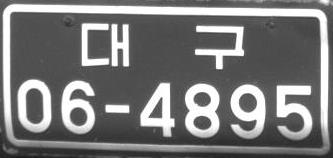0: (17, 78, 52, 135)
4: (140, 81, 175, 137)
5: (275, 83, 312, 140)
6: (60, 78, 96, 135)
8: (184, 82, 220, 138)
9: (229, 82, 266, 139)
대구_D: (80, 22, 245, 68)
